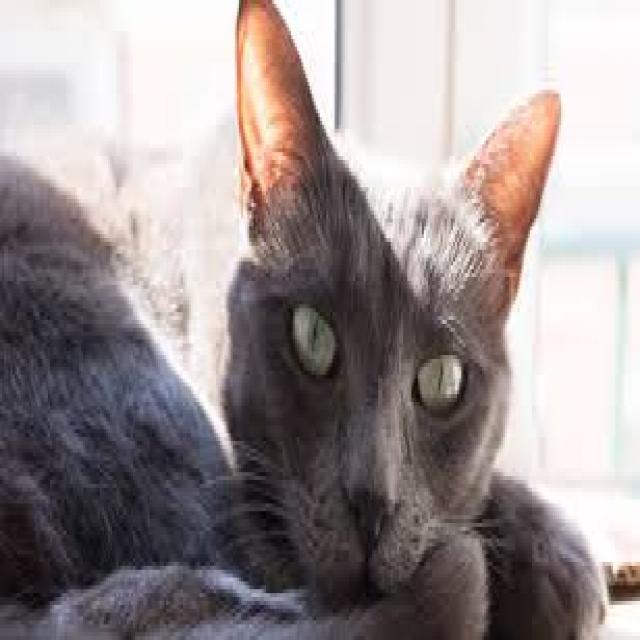Cat: (0, 2, 610, 640)
